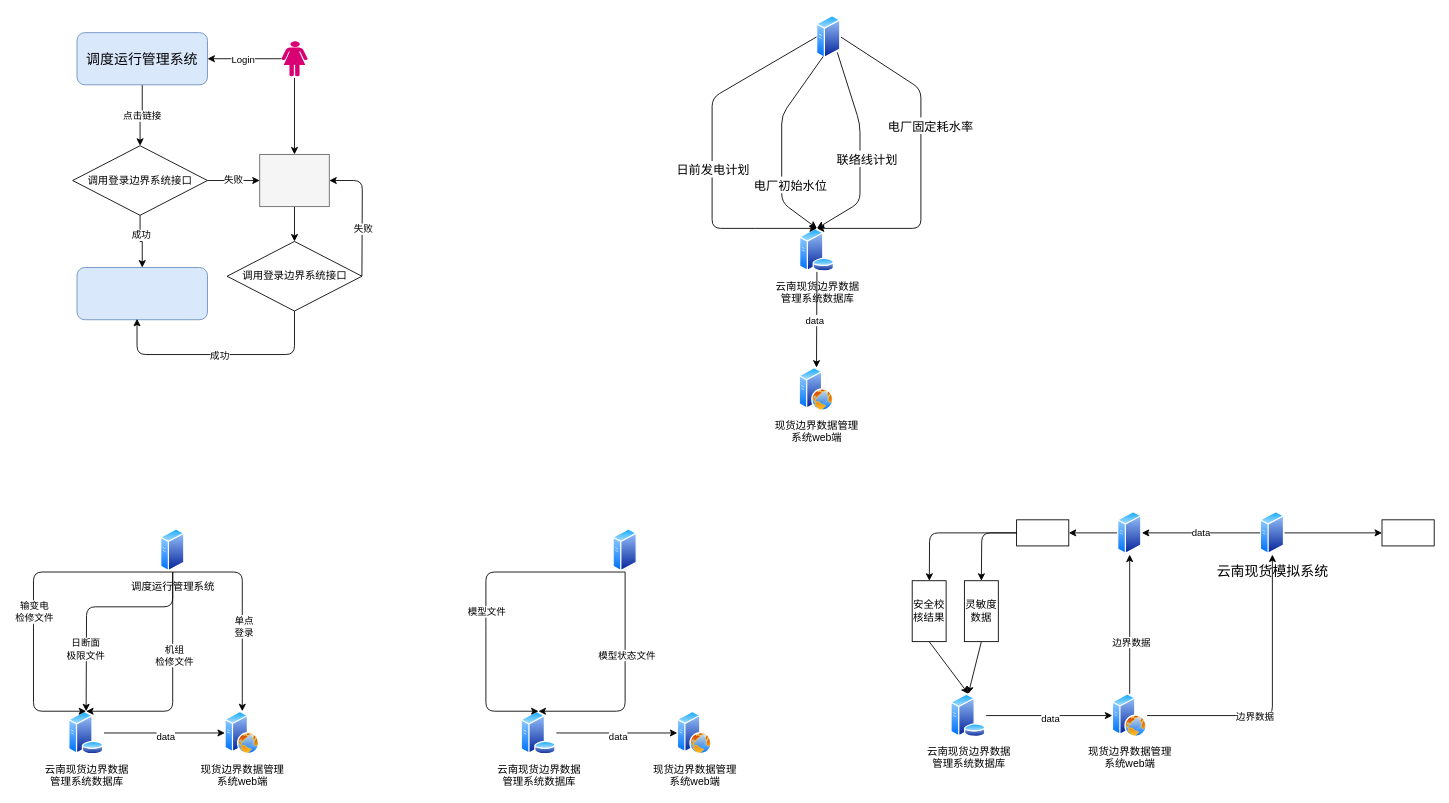
This 1449x803 diagram has some shape labels left out. Here are the shapes that lost their labels. From the top down, the centre of each, then its label:
At point (828, 36): "云南节能调度系统".
At point (294, 180): "登录界面".
At point (141, 293): "云南现货边界数据管理系统".
At point (624, 550): "一体化电网运行控制系统".
At point (1042, 532): "安全校核".
At point (1129, 532): "云南日前安全校核系统".
At point (1407, 532): "现货模拟出清".
